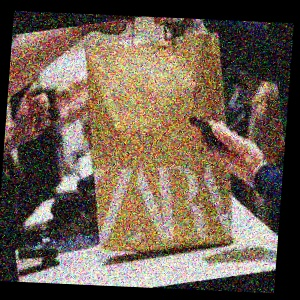zara: (189, 81, 289, 210)
